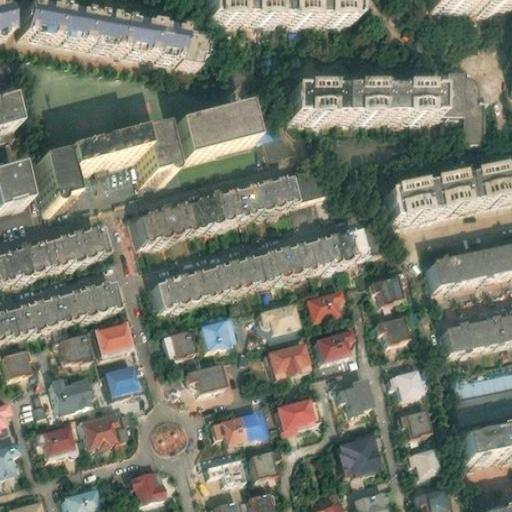building: (147, 228, 357, 308), (131, 178, 288, 243), (33, 131, 165, 207), (381, 167, 512, 225), (0, 276, 120, 335), (0, 225, 105, 279), (295, 84, 442, 116), (174, 105, 257, 159), (437, 314, 512, 362), (442, 71, 482, 145), (208, 0, 354, 19), (450, 391, 512, 429), (211, 403, 270, 442), (337, 428, 384, 473), (49, 371, 97, 410), (459, 429, 512, 463), (83, 403, 128, 443), (276, 391, 321, 429), (452, 364, 512, 392), (306, 282, 349, 318), (269, 336, 313, 371), (104, 355, 144, 393), (40, 417, 80, 455), (201, 311, 241, 349), (338, 370, 378, 408), (95, 316, 135, 350), (261, 296, 301, 330), (315, 322, 355, 355), (57, 324, 95, 358), (63, 482, 106, 512), (187, 357, 228, 388), (131, 464, 167, 498), (390, 362, 426, 395), (368, 267, 405, 299), (414, 481, 453, 511), (407, 441, 444, 472), (282, 174, 317, 205), (375, 308, 412, 337), (355, 484, 392, 512), (209, 452, 247, 478), (400, 402, 435, 430), (0, 166, 24, 206), (3, 342, 34, 372), (165, 322, 196, 351), (178, 27, 204, 60), (26, 392, 53, 423), (252, 443, 278, 473), (249, 486, 277, 512), (10, 495, 47, 512), (209, 493, 242, 512), (473, 496, 511, 512), (0, 439, 17, 472), (0, 4, 17, 37), (312, 497, 344, 512), (0, 101, 14, 131), (432, 0, 509, 4), (148, 503, 180, 512), (0, 396, 7, 427)
